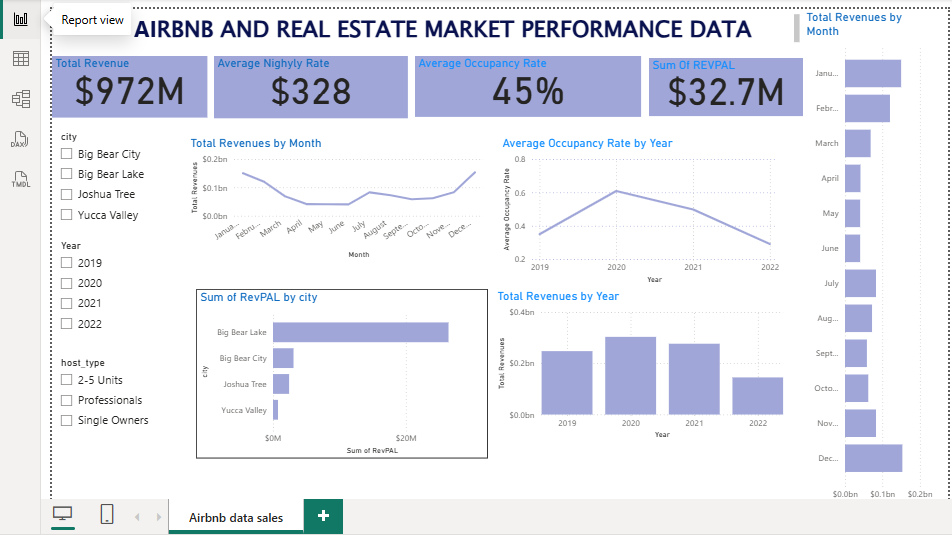

What the dashboard file says about the page in this screenshot:
{"tool":"powerbi","page":{"name":"Airbnb data sales","canvas":[1280,720],"ordinal":0},"visuals":[{"type":"card","title":"Total Revenue","fields":{"Values":["Cleaned airbnb 5.Total Revenues"]},"box":[10.2,109.8,221,87.8],"z":0},{"type":"card","title":"Average Nighyly Rate","fields":{"Values":["Cleaned airbnb 5.Average Nightly Rate"]},"box":[240,109.8,278,87.8],"z":1000},{"type":"card","title":"Average Occupancy Rate","fields":{"Values":["Cleaned airbnb 5.Average Occupancy Rate"]},"box":[529.8,109.8,323.4,86.3],"z":2000},{"type":"card","title":"Sum Of REVPAL","fields":{"Values":["Sum(Cleaned airbnb 5.RevPAL)"]},"box":[864.9,114.1,219.5,77.6],"z":3000},{"type":"actionButton","box":[0,0,100,40],"z":4000},{"type":"clusteredBarChart","fields":{"Y":["Cleaned airbnb 5.Total Revenues"],"Category":["Cleaned airbnb 5.month.Variation.Date Hierarchy.Month"]},"box":[1072.9,1.4,190,718.6],"z":5000},{"type":"lineChart","fields":{"Y":["Cleaned airbnb 5.Total Revenues"],"Category":["Cleaned airbnb 5.month.Variation.Date Hierarchy.Month"]},"box":[169.8,269.3,428.8,180],"z":6000},{"type":"lineChart","fields":{"Y":["Cleaned airbnb 5.Average Occupancy Rate"],"Category":["Cleaned airbnb 5.month.Variation.Date Hierarchy.Year"]},"box":[649.8,254.6,405.4,215.1],"z":7000},{"type":"clusteredBarChart","fields":{"Y":["Sum(Cleaned airbnb 5.RevPAL)"],"Category":["Cleaned airbnb 5.city"]},"box":[175.6,469.8,417.1,241.5],"z":8000},{"type":"columnChart","fields":{"Y":["Cleaned airbnb 5.Total Revenues"],"Category":["Cleaned airbnb 5.month.Variation.Date Hierarchy.Year"]},"box":[632.2,469.8,418.5,219.5],"z":9000},{"type":"slicer","fields":{"Values":["Cleaned airbnb 5.city"]},"box":[0,199,159.5,156.6],"z":10000},{"type":"slicer","fields":{"Values":["Cleaned airbnb 5.month.Variation.Date Hierarchy.Year"]},"box":[0,386.3,159.5,166.8],"z":11000},{"type":"slicer","fields":{"Values":["Cleaned airbnb 5.host_type"]},"box":[14.6,579.5,144.9,127.3],"z":12000},{"type":"textbox","box":[50,1.4,1022.9,54.3],"z":13000},{"type":"textbox","box":[121.5,55.6,951.2,58.5],"z":13001}]}

Visuals, with their boxes on the page's 1280x720 design canvas (x1, y1, x2, y2). These are canvas units, not pixel positions in the 952x535 screenshot, which may show the page scaled, cropped or inside an application window:
"Total Revenue" card: [left=10, top=110, right=231, bottom=198]
"Average Nighyly Rate" card: [left=240, top=110, right=518, bottom=198]
"Average Occupancy Rate" card: [left=530, top=110, right=853, bottom=196]
"Sum Of REVPAL" card: [left=865, top=114, right=1084, bottom=192]
actionButton: [left=0, top=0, right=100, bottom=40]
clusteredBarChart - Cleaned airbnb 5.Total Revenues x Cleaned airbnb 5.month.Variation.Date Hierarchy.Month: [left=1073, top=1, right=1263, bottom=720]
lineChart - Cleaned airbnb 5.Total Revenues x Cleaned airbnb 5.month.Variation.Date Hierarchy.Month: [left=170, top=269, right=599, bottom=449]
lineChart - Cleaned airbnb 5.Average Occupancy Rate x Cleaned airbnb 5.month.Variation.Date Hierarchy.Year: [left=650, top=255, right=1055, bottom=470]
clusteredBarChart - Sum(Cleaned airbnb 5.RevPAL) x Cleaned airbnb 5.city: [left=176, top=470, right=593, bottom=711]
columnChart - Cleaned airbnb 5.Total Revenues x Cleaned airbnb 5.month.Variation.Date Hierarchy.Year: [left=632, top=470, right=1051, bottom=689]
slicer - Cleaned airbnb 5.city: [left=0, top=199, right=160, bottom=356]
slicer - Cleaned airbnb 5.month.Variation.Date Hierarchy.Year: [left=0, top=386, right=160, bottom=553]
slicer - Cleaned airbnb 5.host_type: [left=15, top=580, right=160, bottom=707]
textbox: [left=50, top=1, right=1073, bottom=56]
textbox: [left=122, top=56, right=1073, bottom=114]
